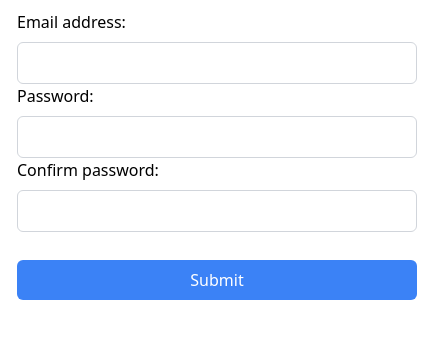
Test: 05-form-testing › should show email error if email is invalid
This screenshot has width=435, height=342.
Check: the text "invalid email" is not shown
Type the invalid email
Type "invalid" into the field labelled "Email address:".
click(217, 63); type("invalid")  # box x1=17 y1=42 x2=417 y2=84
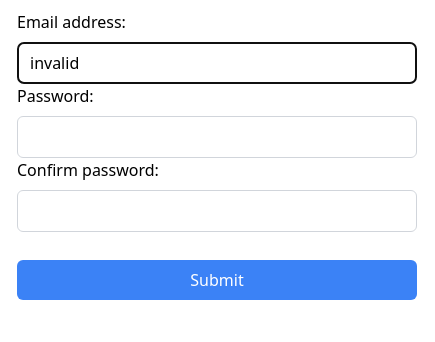
Click the button "Submit".
click(217, 280)  # box x1=17 y1=260 x2=417 y2=300
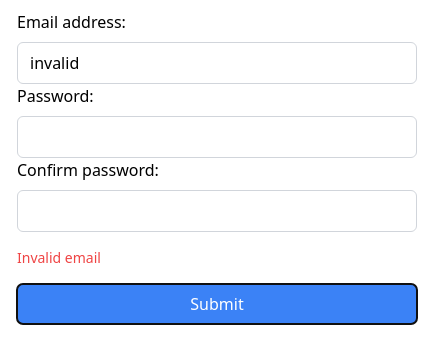
Check: the text "Invalid email" is shown, box x1=17 y1=248 x2=101 y2=267
